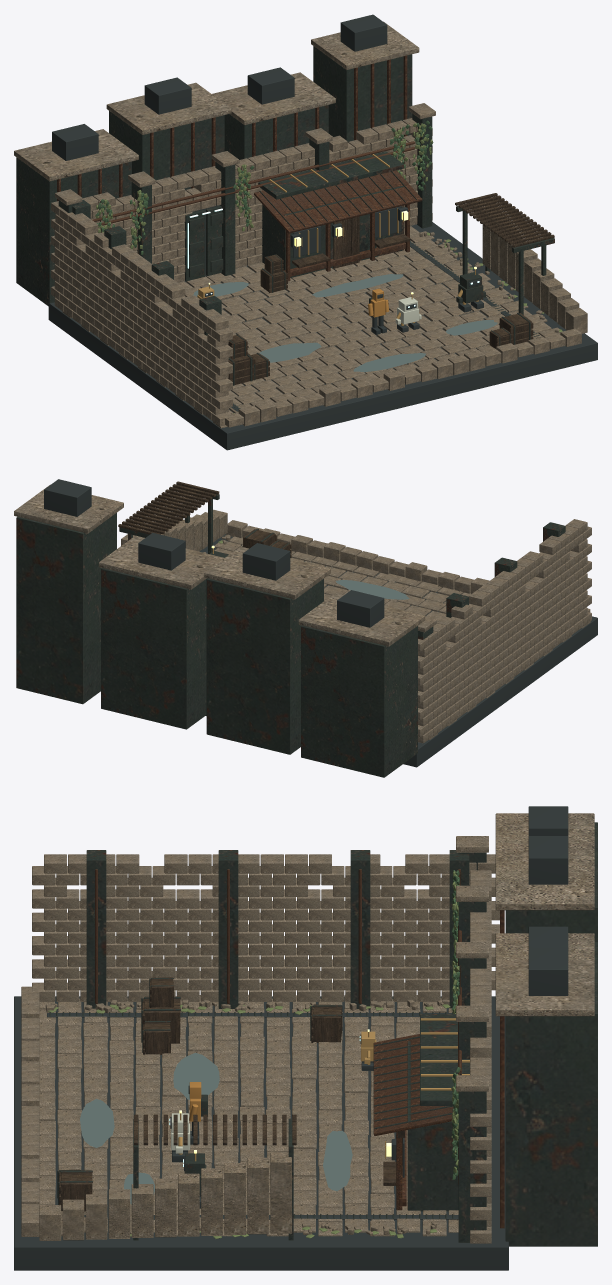
Rendered from rain-court.glb.
3 renders of one model, top to bottom at view 1: azimuth 30°, elevation 25°; view 2: azimuth 150°, elevation 25°; view 3: azimuth 270°, elevation 25°, orthographic. The views are drawn at different scales.
Parts seen in each view (by area): view 1: Limestone | atlas NW, Petrol paint | atlas NE, Graphite rubber, Oxidized iron | atlas SW, Salvaged timber | atlas SE, Rainwater, Moss olive, Damp ivy, Aged brass; view 2: Petrol paint | atlas NE, Limestone | atlas NW, Graphite rubber, Salvaged timber | atlas SE, Rainwater; view 3: Limestone | atlas NW, Petrol paint | atlas NE, Graphite rubber, Oxidized iron | atlas SW, Salvaged timber | atlas SE, Rainwater, Moss olive, Aged brass, Damp ivy.
Boxes of the visible parts, x1=… form: Limestone | atlas NW: x1=14, y1=21, x2=587, y2=428; Petrol paint | atlas NE: x1=16, y1=46, x2=554, y2=411; Graphite rubber: x1=48, y1=14, x2=597, y2=450; Oxidized iron | atlas SW: x1=57, y1=55, x2=422, y2=281; Salvaged timber | atlas SE: x1=98, y1=123, x2=554, y2=384; Rainwater: x1=193, y1=274, x2=497, y2=372; Moss olive: x1=95, y1=123, x2=562, y2=413; Damp ivy: x1=95, y1=120, x2=433, y2=254; Aged brass: x1=197, y1=154, x2=483, y2=325; Petrol paint | atlas NE: x1=16, y1=494, x2=565, y2=777; Limestone | atlas NW: x1=14, y1=484, x2=591, y2=743; Graphite rubber: x1=44, y1=479, x2=597, y2=767; Salvaged timber | atlas SE: x1=118, y1=481, x2=291, y2=557; Rainwater: x1=336, y1=580, x2=409, y2=599; Limestone | atlas NW: x1=21, y1=813, x2=594, y2=1243; Petrol paint | atlas NE: x1=49, y1=822, x2=597, y2=1246; Graphite rubber: x1=14, y1=806, x2=568, y2=1270; Oxidized iron | atlas SW: x1=95, y1=869, x2=504, y2=1228; Salvaged timber | atlas SE: x1=59, y1=871, x2=461, y2=1211; Rainwater: x1=80, y1=1053, x2=352, y2=1204; Moss olive: x1=48, y1=871, x2=459, y2=1238; Aged brass: x1=178, y1=1018, x2=469, y2=1161; Damp ivy: x1=451, y1=870, x2=460, y2=1179.
Size of the model in its own units: 18.17 by 9.52 by 17.7.
13 materials, 4 textured.
